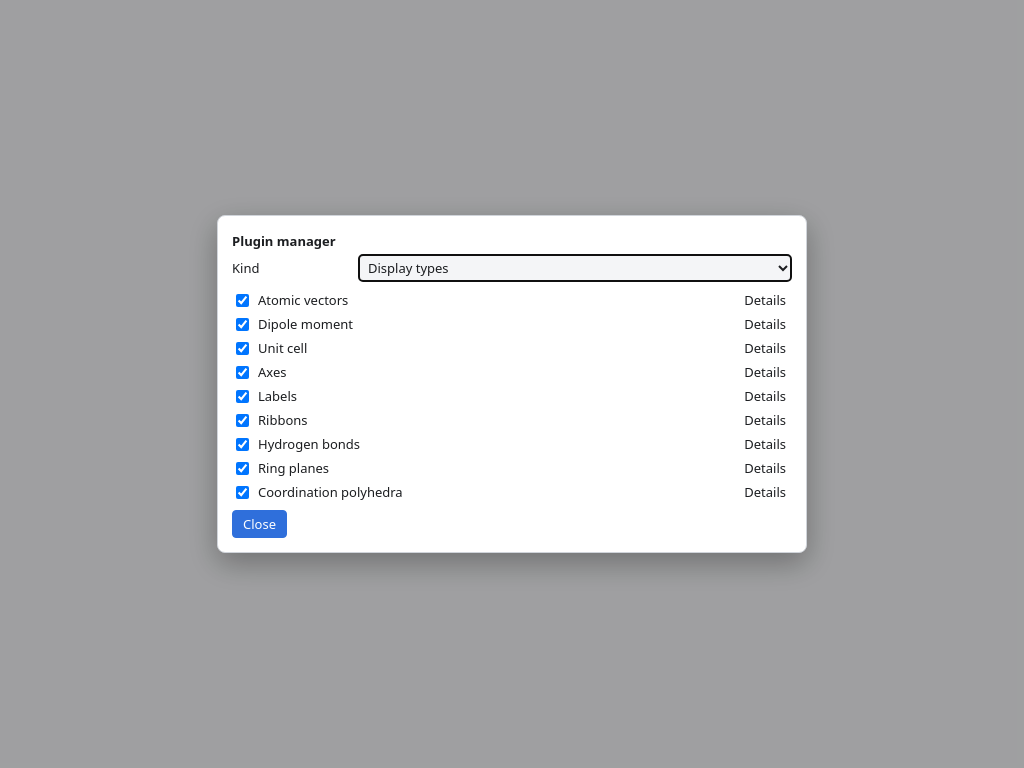
Test: the details of a plugin are its name, its identifier, its kind and what it does
The width and height of the screenshot is (1024, 768).
Select "Tools" in the dropdown labelled "Kind" at (575, 268), box x1=358 y1=254 x2=792 y2=282
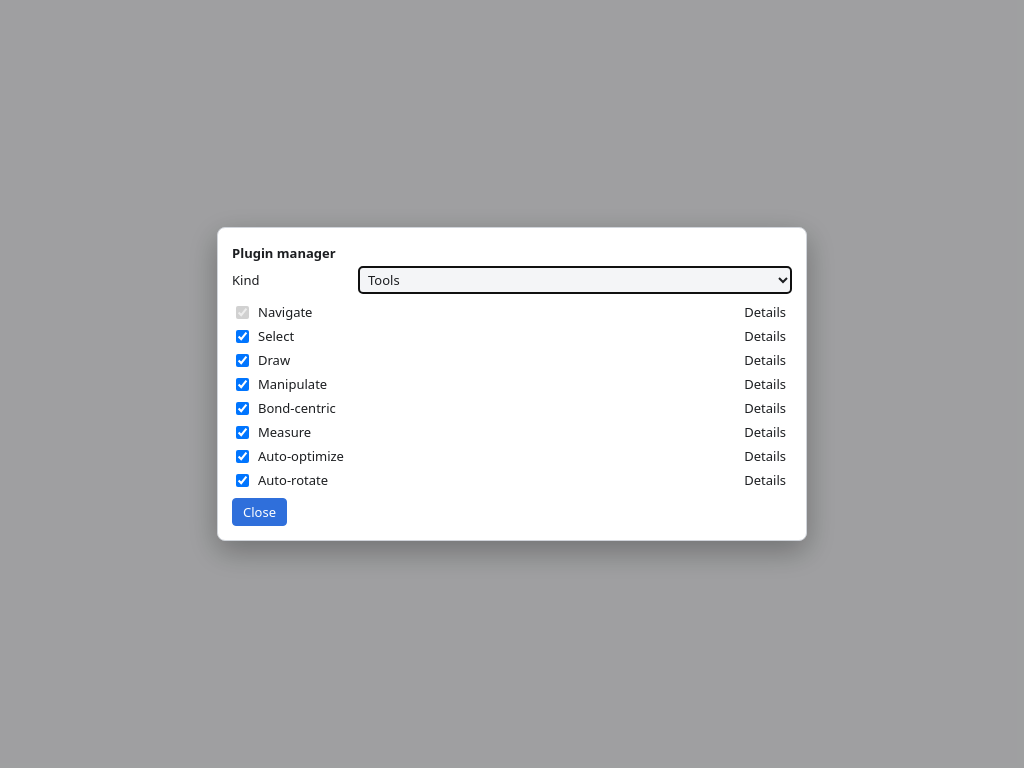
Click the button "Details" in the row of "Measure" at (765, 432), box x1=738 y1=422 x2=792 y2=442
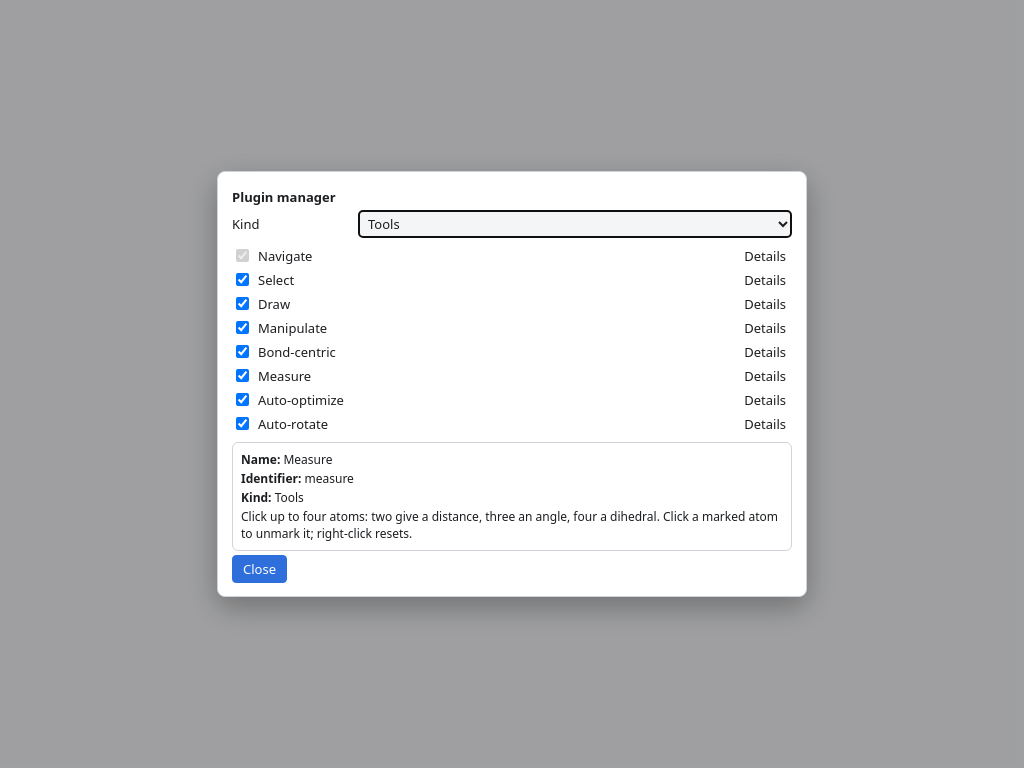
Check: the element with test id "plugin-details" shows "Name: Measure", box x1=232 y1=442 x2=792 y2=551
Check: the element with test id "plugin-details" shows "Identifier: measure", box x1=232 y1=442 x2=792 y2=551
Check: the element with test id "plugin-details" shows "Kind: Tools", box x1=232 y1=442 x2=792 y2=551
